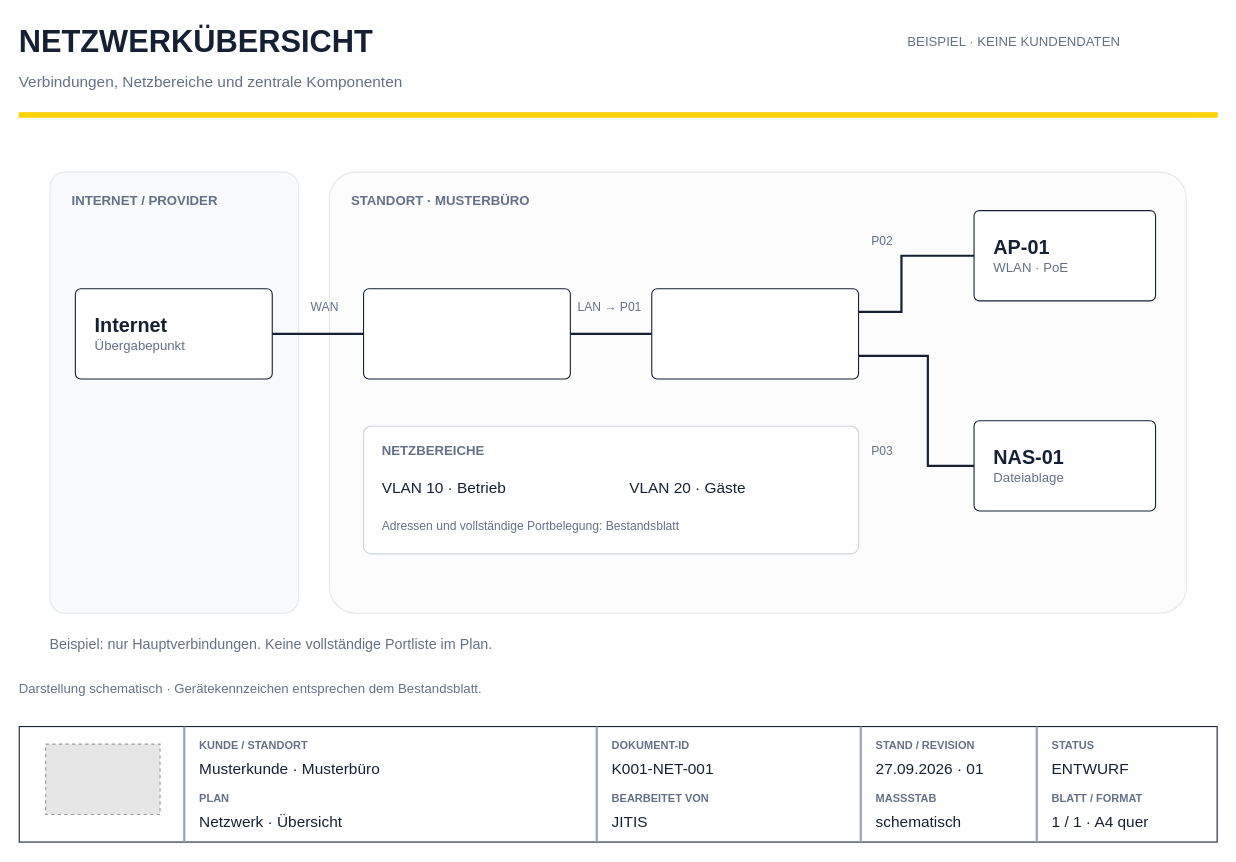
The diagram is 1236 pixels wide and 862 high, and some of its shapes have lost their labels. Grey dashed boxes stand in for pictures. The shapes that lost their labels are listed below. From the top down, each one's centre as x and y in pixels, then its label:
At point 466,333: "FW-01 Firewall / Router".
At point 755,333: "SW-01 Zentraler Switch".
